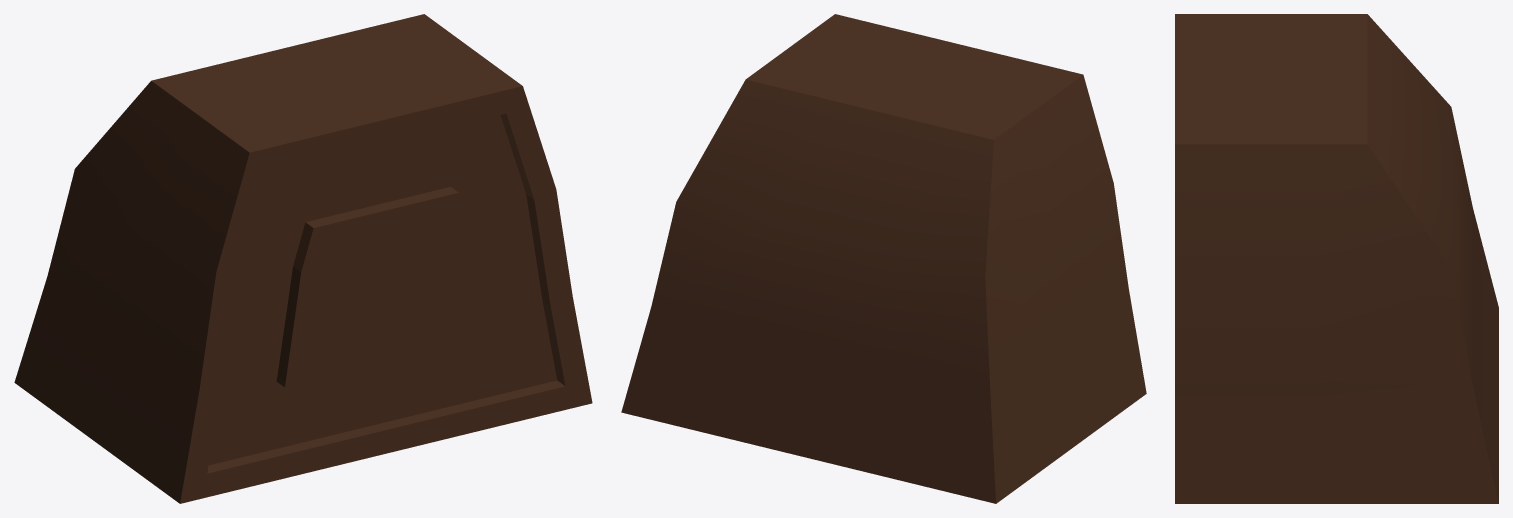
The model's file is Schokolade 3.fbx.
3 renders of one model, left to right at view 1: azimuth 30°, elevation 25°; view 2: azimuth 150°, elevation 25°; view 3: azimuth 270°, elevation 25°, orthographic. The views are drawn at different scales.
Parts seen in each view (by area): view 1: Schokolade 3; view 2: Schokolade 3; view 3: Schokolade 3.
Part boxes in pixels (x1,y1,x2,y2): Schokolade 3: (14,14,592,503); Schokolade 3: (621,14,1146,503); Schokolade 3: (1175,14,1498,503).
Size of the model in its own units: 80.05 by 61.98 by 55.69.
